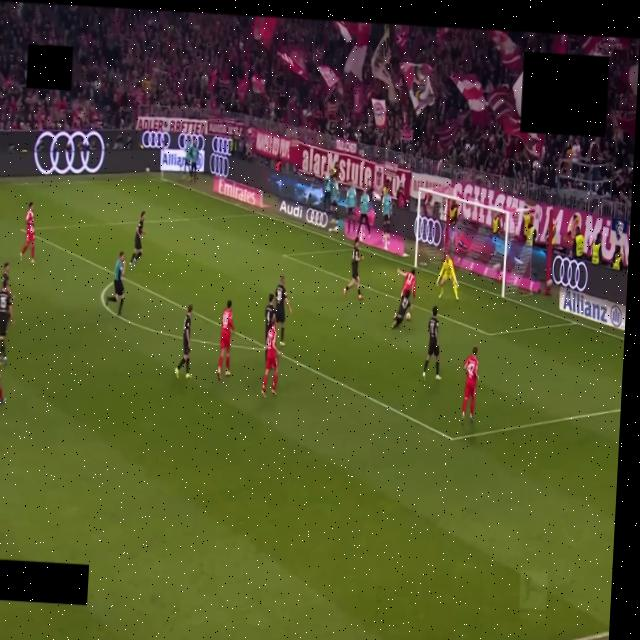ball: (406, 313, 410, 320)
player: (262, 318, 280, 397), (217, 301, 234, 380), (175, 304, 192, 379), (423, 307, 440, 380), (462, 347, 478, 423), (0, 285, 15, 365), (344, 237, 363, 300), (275, 275, 292, 345), (437, 253, 458, 300), (20, 202, 35, 264), (130, 211, 144, 266), (390, 296, 410, 329), (397, 268, 416, 299), (264, 294, 275, 339), (1, 262, 14, 297), (0, 383, 5, 404)
referee: (106, 252, 125, 316)
